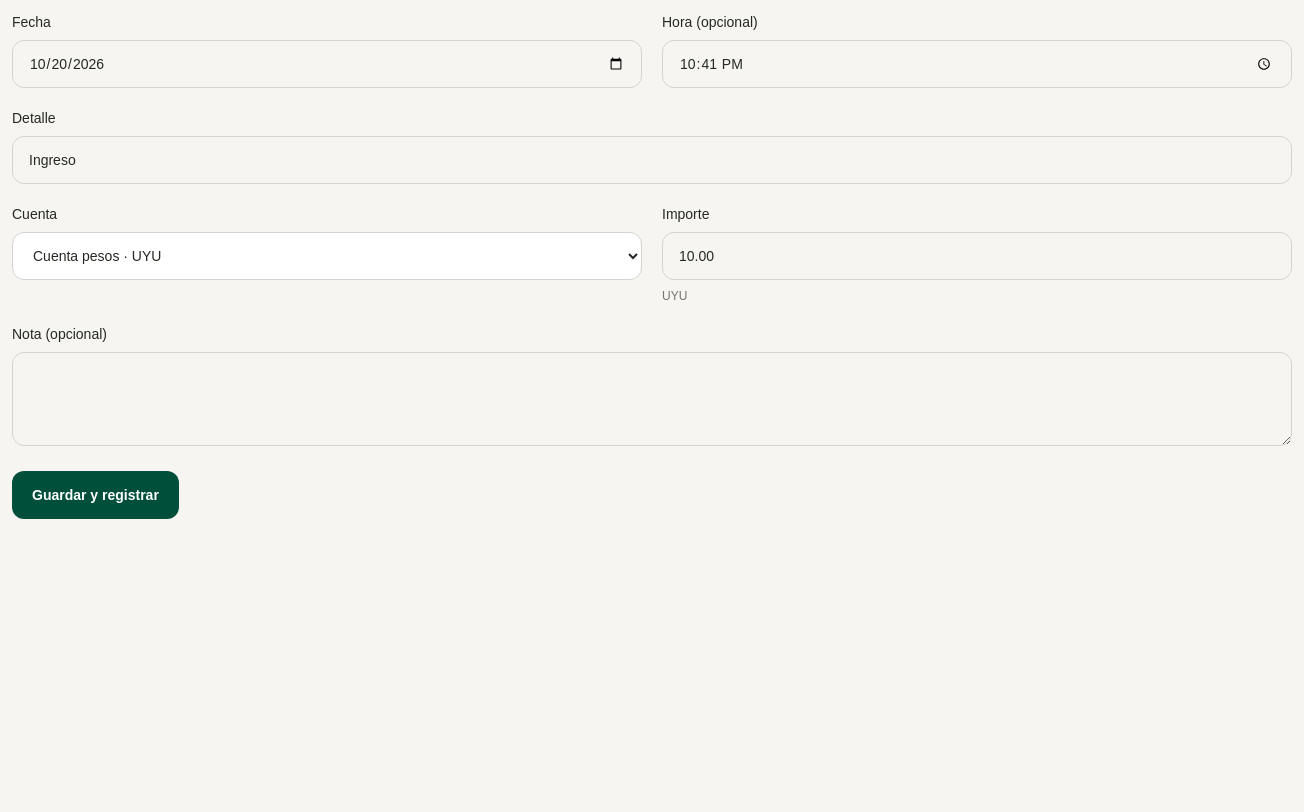
Scenario: muestra qué falta al intentar registrar un ingreso pendiente
Click the button "Guardar y registrar". click: (95, 495)
box: 12,471 -> 179,519
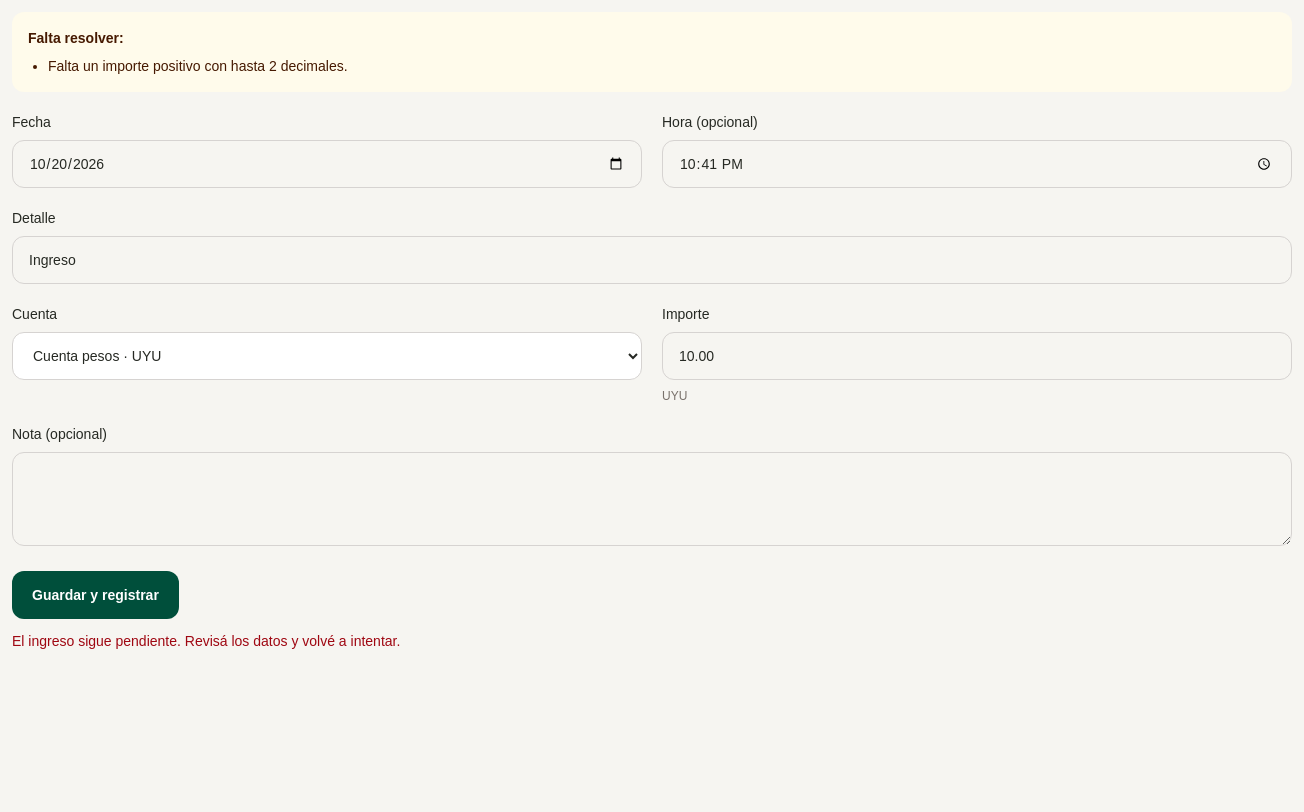
Result: the list item "Falta un importe positivo con hasta 2 decimales." is shown at 48,58 -> 348,74
